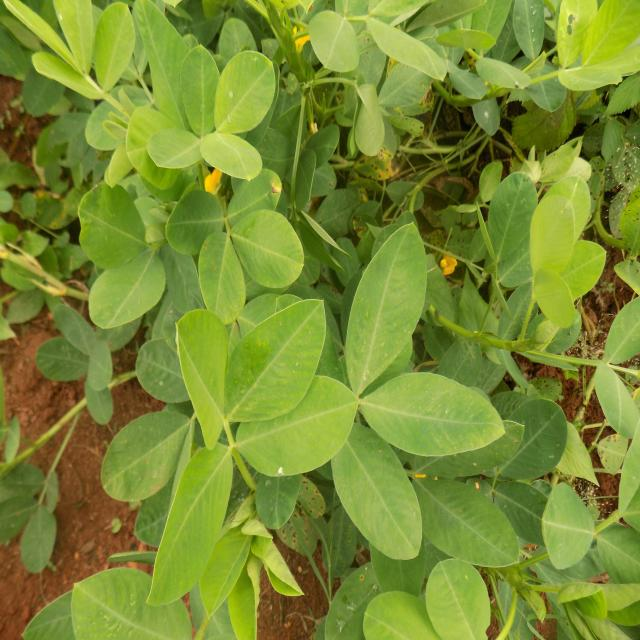Ground nut_healthy: (214, 287, 317, 435), (148, 439, 235, 605), (358, 373, 507, 466), (343, 221, 422, 393), (323, 429, 415, 575), (537, 166, 608, 298), (100, 410, 190, 504), (228, 206, 316, 280), (80, 181, 151, 262), (481, 162, 528, 260)
